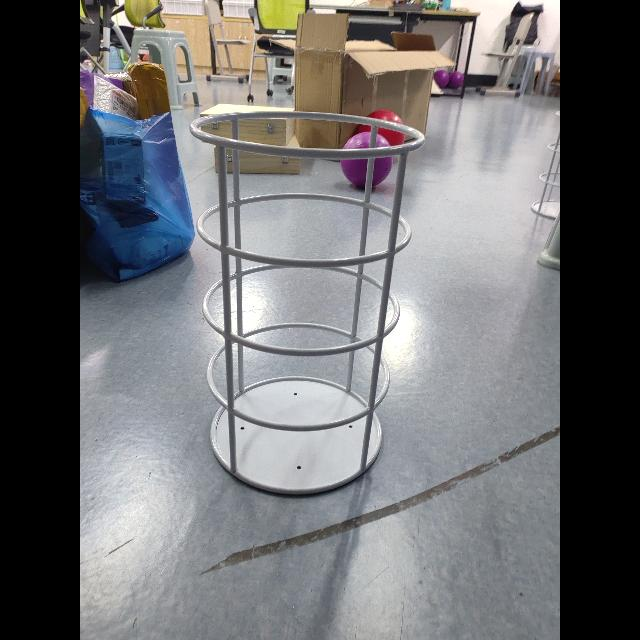S: (188, 105, 428, 499)
